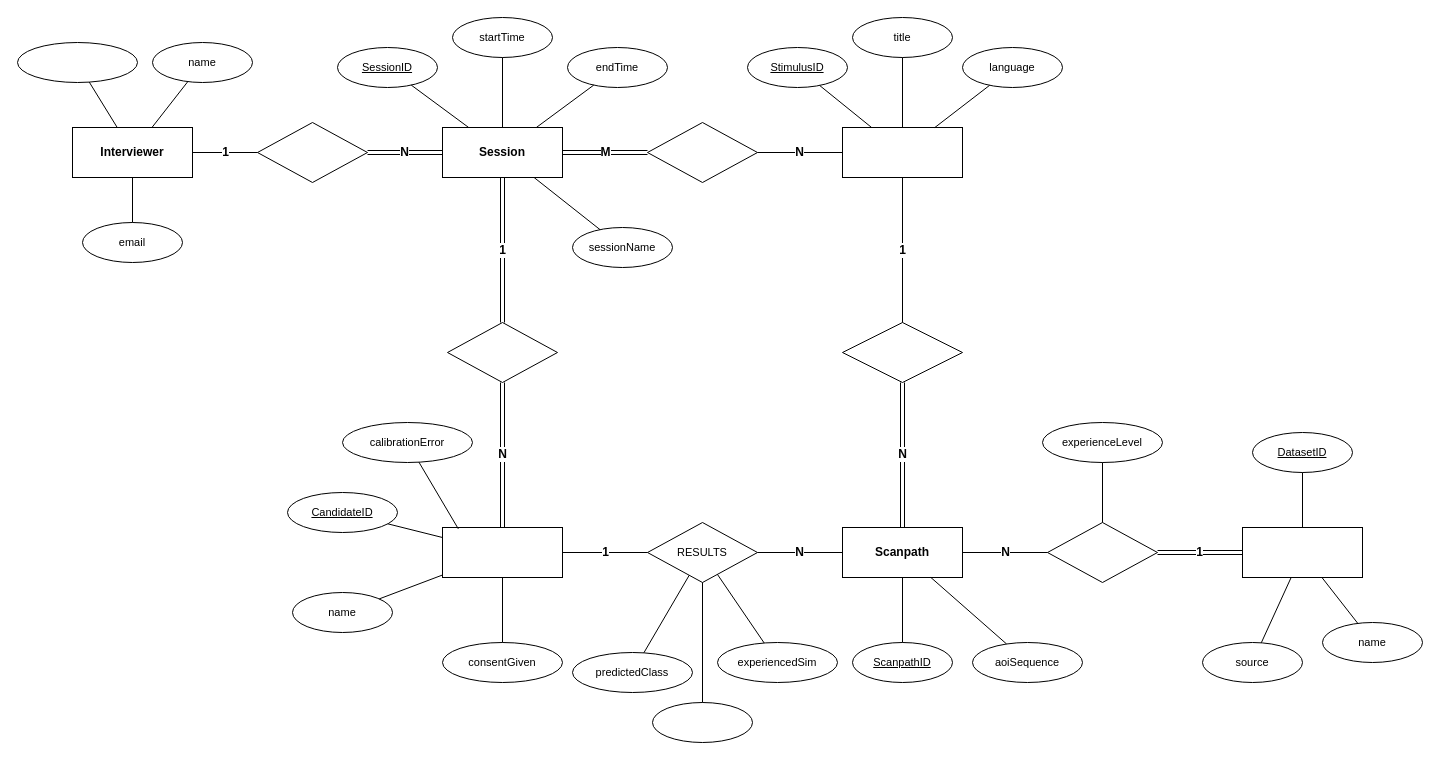
The diagram is 1440 pixels wide and 760 high, and some of its shapes have lost their labels. Here are the shapes that lost their labels. From the top down, the centre of each, then its label:
At pixel 77 62: "InterviewerID".
At pixel 312 152: "CONDUCTS".
At pixel 702 152: "SHOWS".
At pixel 902 152: "Code Stimulus".
At pixel 502 352: "ATTENDS".
At pixel 902 352: "RECORDED_ON".
At pixel 502 552: "Candidate".
At pixel 1102 552: "CONTAINS".
At pixel 1302 552: "Dataset".
At pixel 702 722: "noviceSim".
